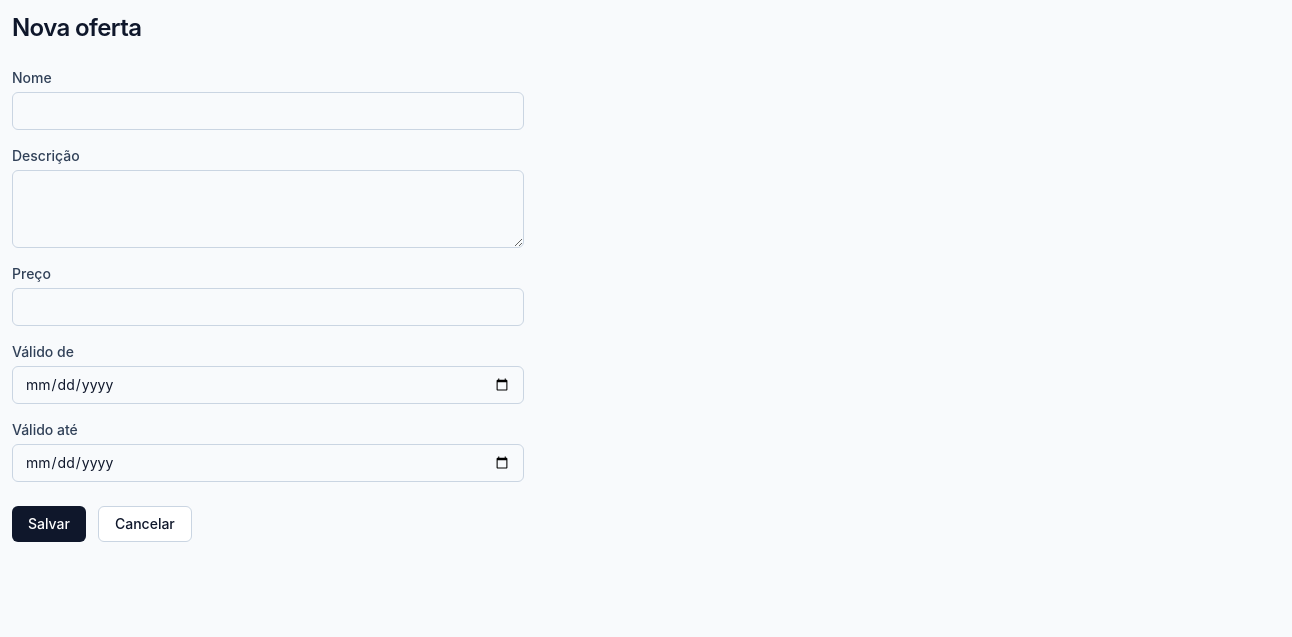
OfferFormPage › missing name shows validation error and does not submit
Type "100" into the number field labelled "Preço". click: coordinates (268, 307)
box: [12,288,524,326]
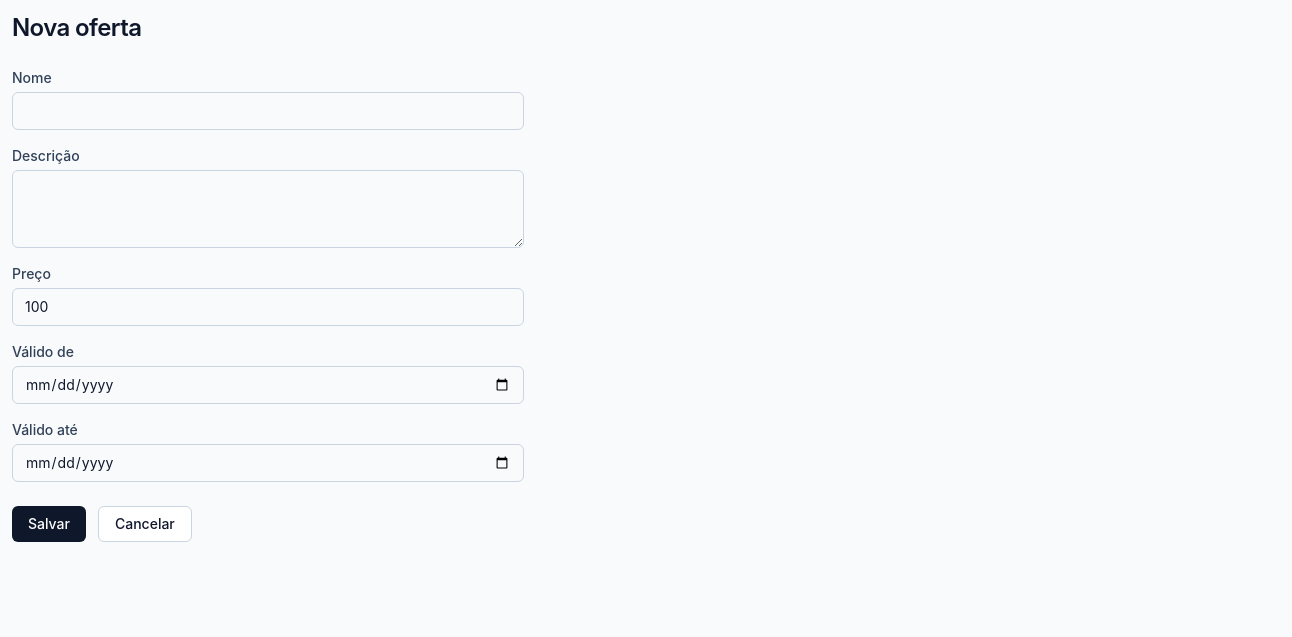
Click the button "Salvar". click: coordinates (49, 524)
box: [12,506,86,542]
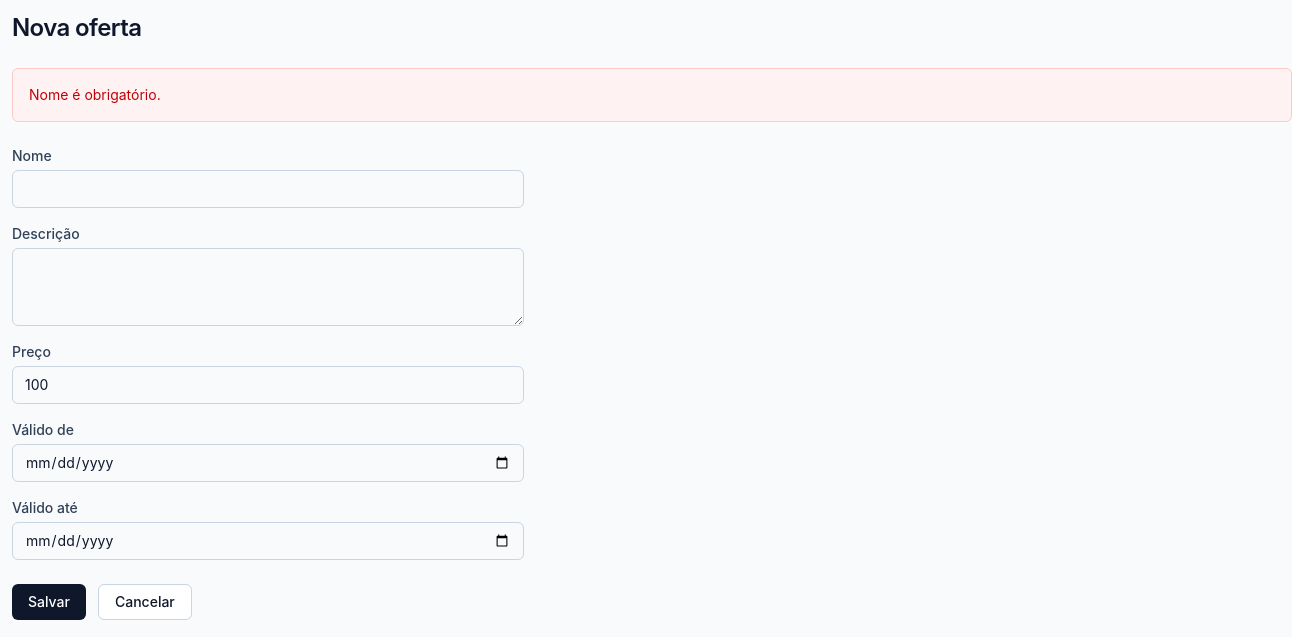
Now the text "Nome é obrigatório." is shown, box [12,68,1291,122]
